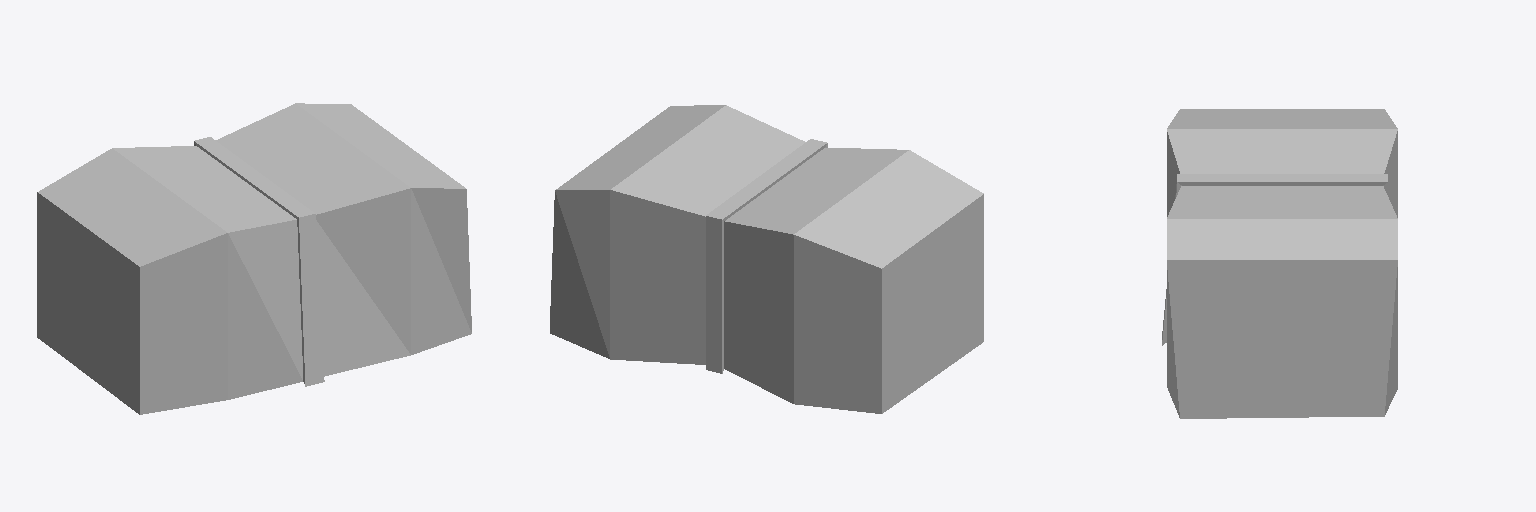
The model's file is Haystack.obj.
3 renders of one model, left to right at view 1: azimuth 30°, elevation 25°; view 2: azimuth 150°, elevation 25°; view 3: azimuth 270°, elevation 25°, orthographic.
Bounding box in the file's own units: 2.58 × 1.26 × 1.58.